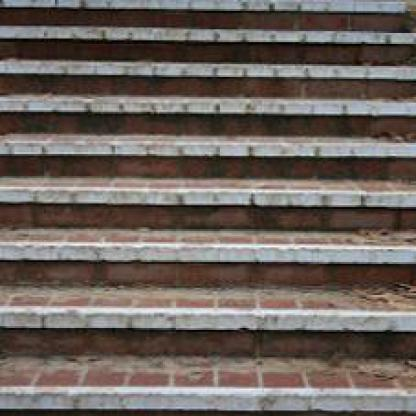stair_up: (7, 87, 392, 366)
